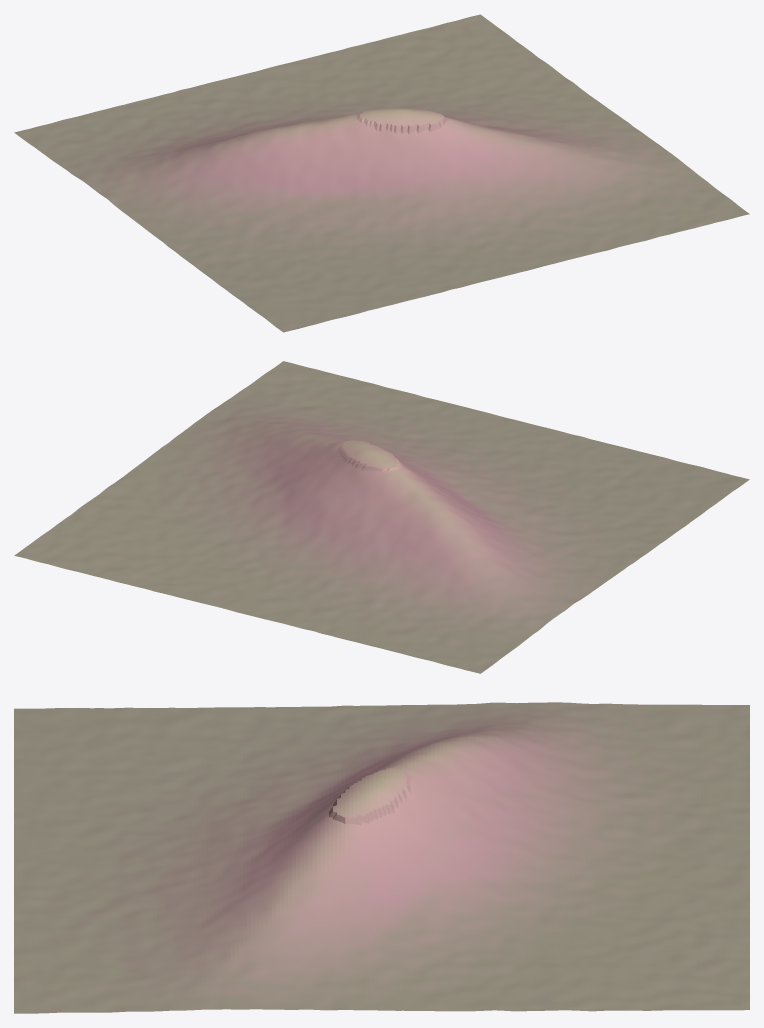
File: Castalla_Terrain_v1.glb
3 views of the same model, one above another, from view 1: azimuth 30°, elevation 25°; view 2: azimuth 150°, elevation 25°; view 3: azimuth 270°, elevation 25° (orthographic). The views are drawn at different scales.
Visible parts, largest first — view 1: world; view 2: world; view 3: world.
Boxes of the visible parts, x1,y1,x2,y2 form: world: (14, 14, 749, 332); world: (14, 361, 749, 673); world: (14, 702, 749, 1013).
Bounding box in the file's own units: 800 × 105 × 800.
